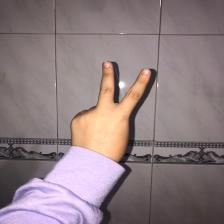two: (68, 58, 157, 160)
